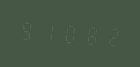eight: (78, 20, 97, 48)
nine: (18, 16, 37, 44)
one: (38, 17, 57, 46)
two: (98, 22, 117, 50)
zero: (58, 19, 77, 47)
